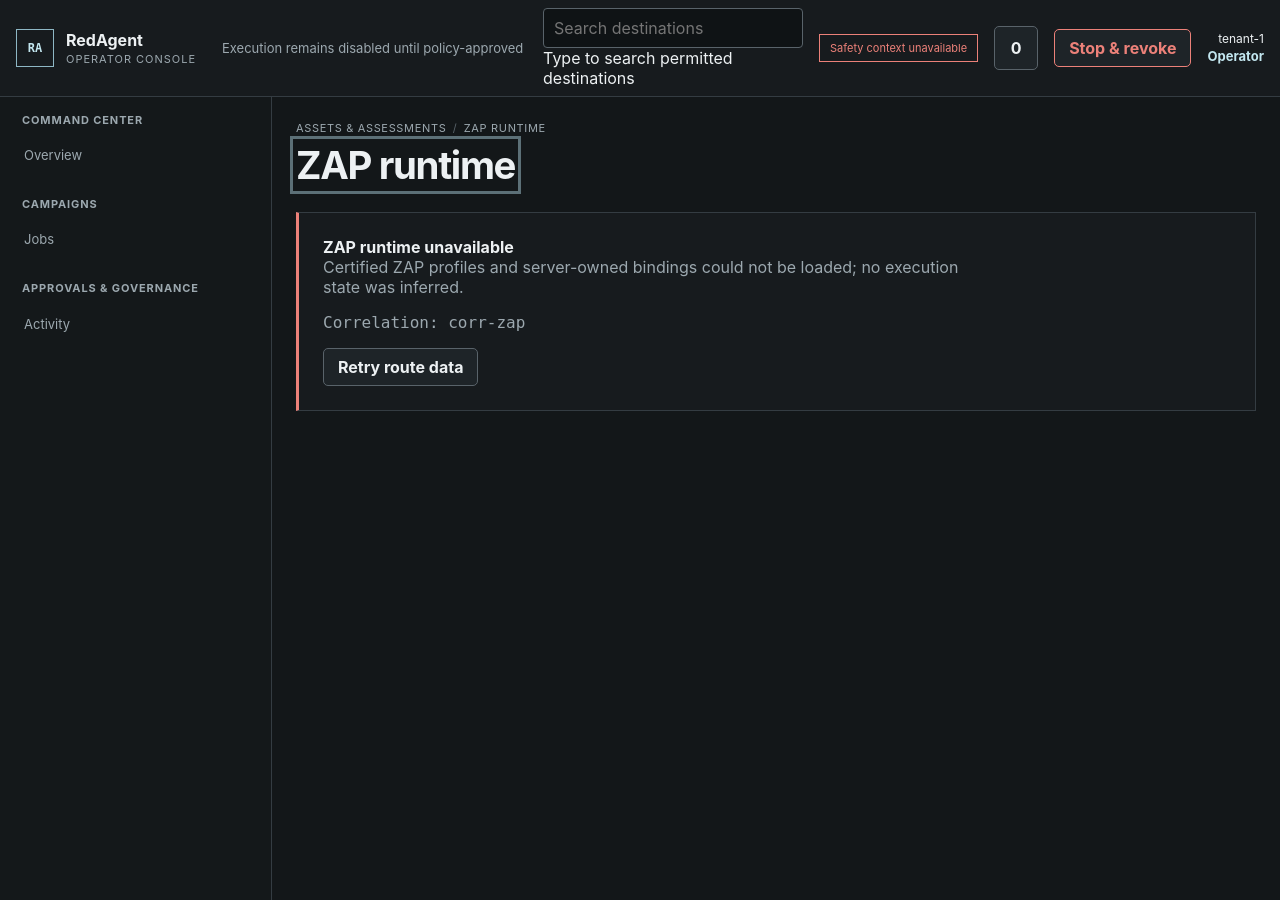
Test: projects a correlated ZAP outage and retries without inferring execution state
Expected: the message "ZAP runtime unavailable" is shown, [296,212,1256,411]
Expected: the text "Correlation: corr-zap" is shown, [323,313,525,332]
Click the button "Retry route data": point(401, 367) [323,348,478,386]
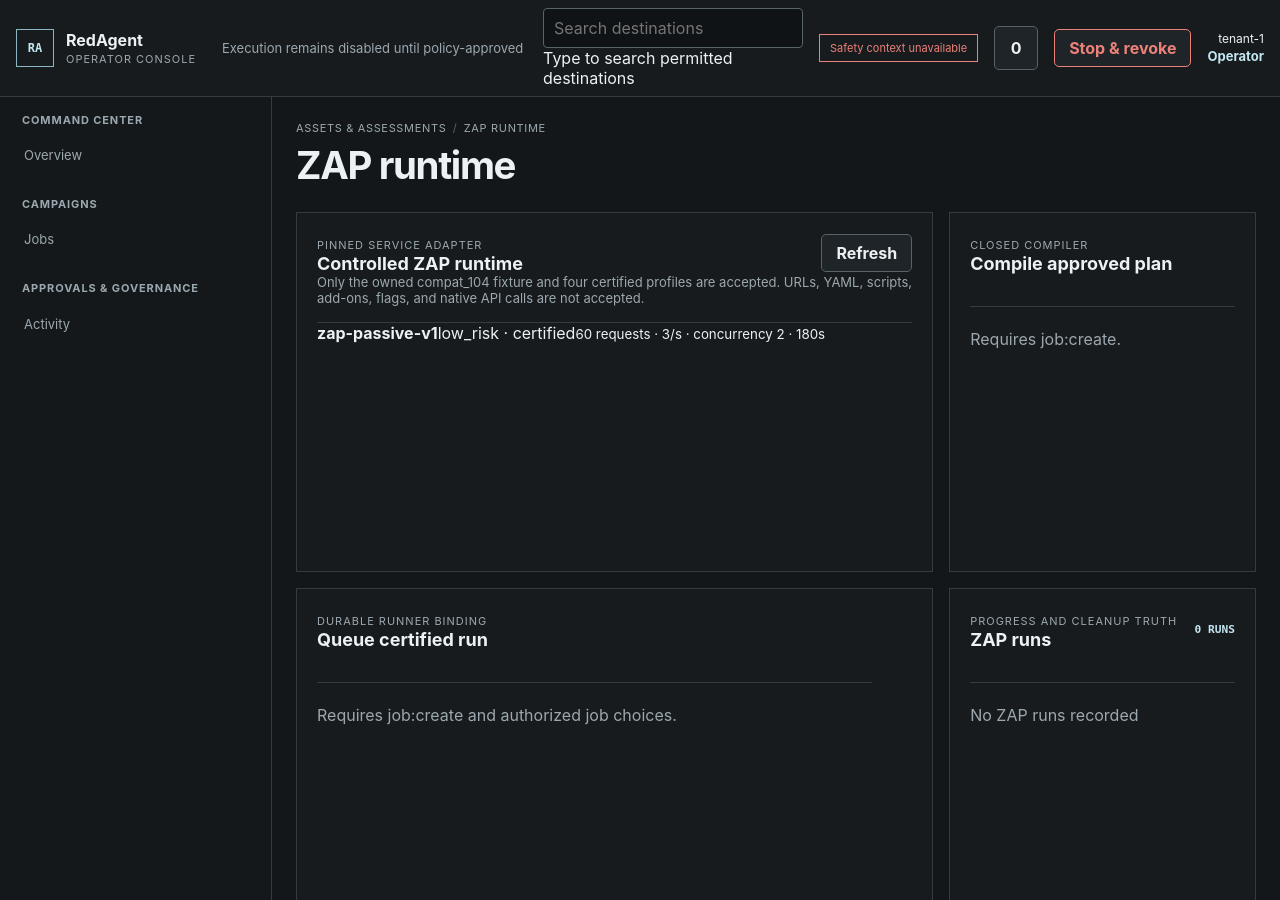
Now the text "No ZAP runs recorded" is shown, box [970,682,1235,747]
